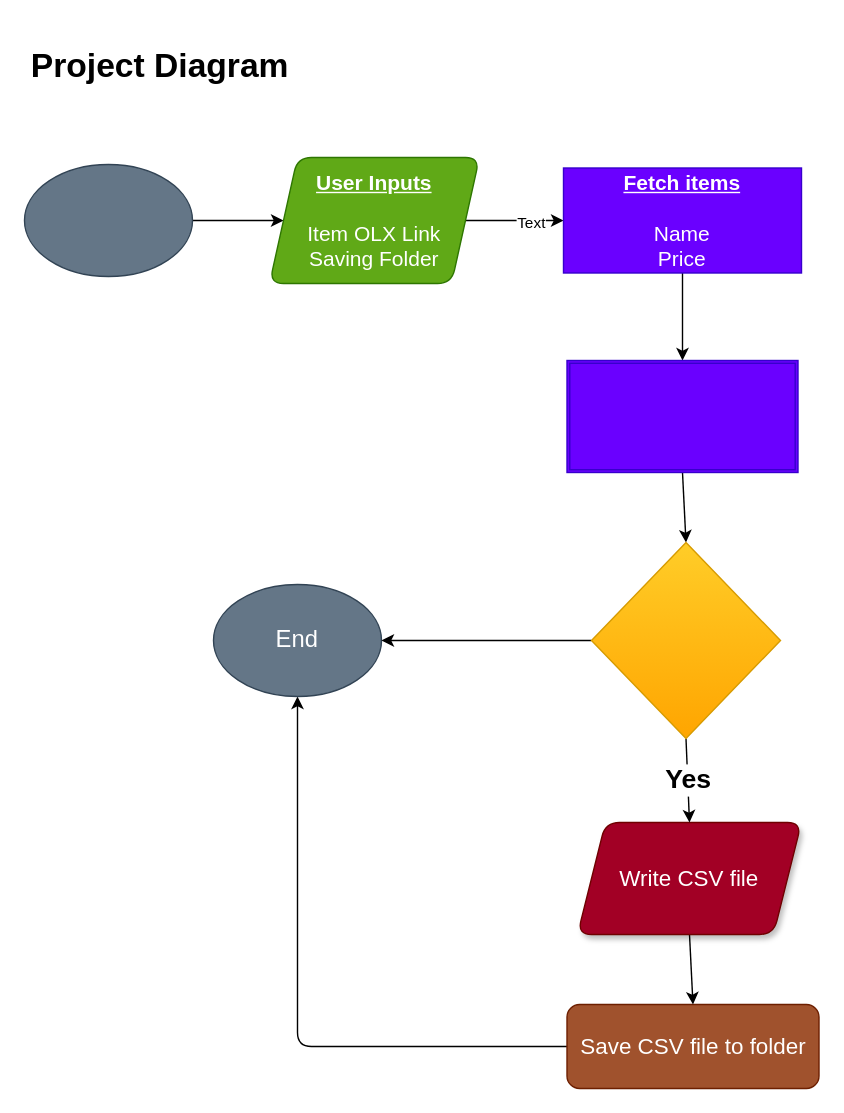
This 844x1113 diagram has some shape labels left out. The centre of each missing label's shape, as x and y in pixels:
Calculate Lowest price Average price: the point at 682,415
Create CSV confirmation: the point at 685,639
Start: the point at 107,219
